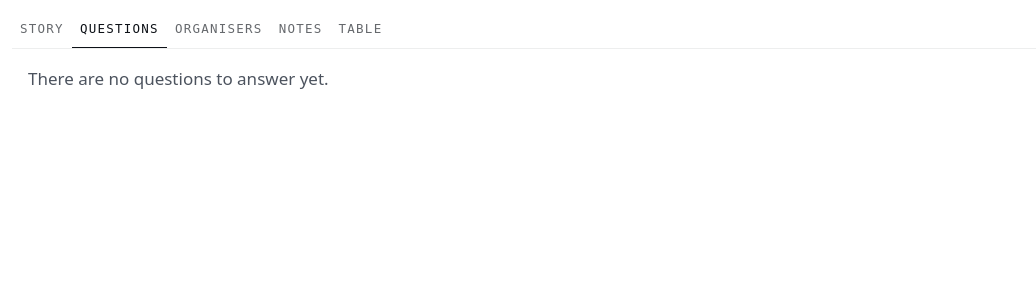
the side panel › shows the notes field once its tab is chosen
Click the tab "Notes" at (301, 30), box [271,12,330,49]
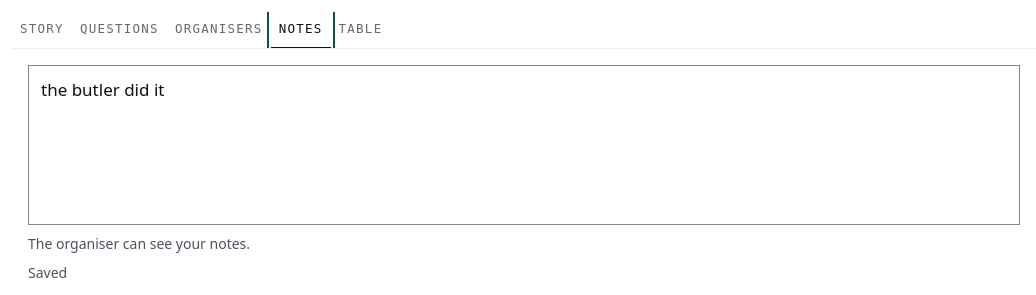
Expected: the text box named "Your notes" is shown, [28,65,1020,225]
